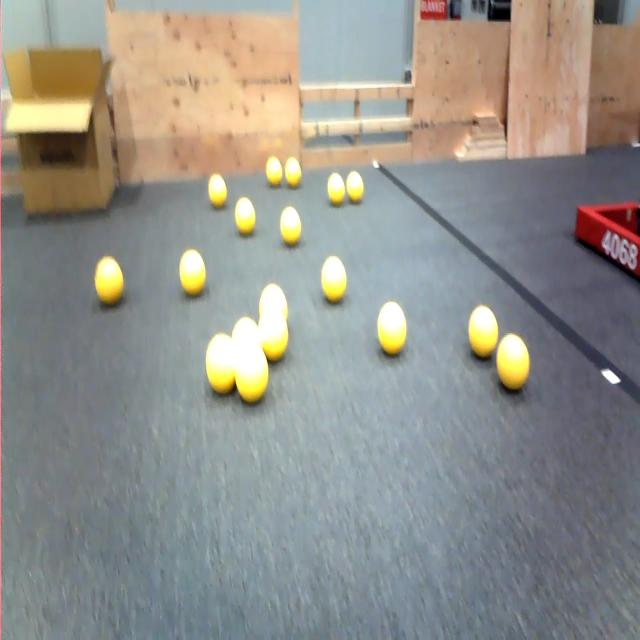fuel: (234, 344, 268, 403), (496, 333, 530, 391), (206, 334, 234, 394), (468, 305, 498, 359), (377, 302, 406, 355), (258, 311, 288, 361), (95, 256, 123, 305), (179, 249, 205, 295), (321, 256, 346, 303), (259, 283, 287, 320), (280, 207, 301, 246), (232, 317, 259, 346), (235, 197, 255, 235), (208, 174, 227, 208), (327, 173, 345, 206), (346, 171, 363, 203), (285, 157, 301, 188), (266, 157, 282, 186)
